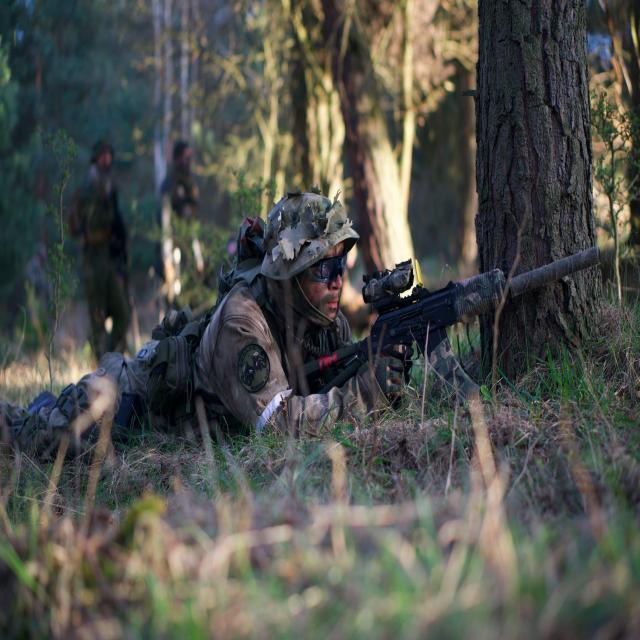weapon: (294, 244, 604, 412)
